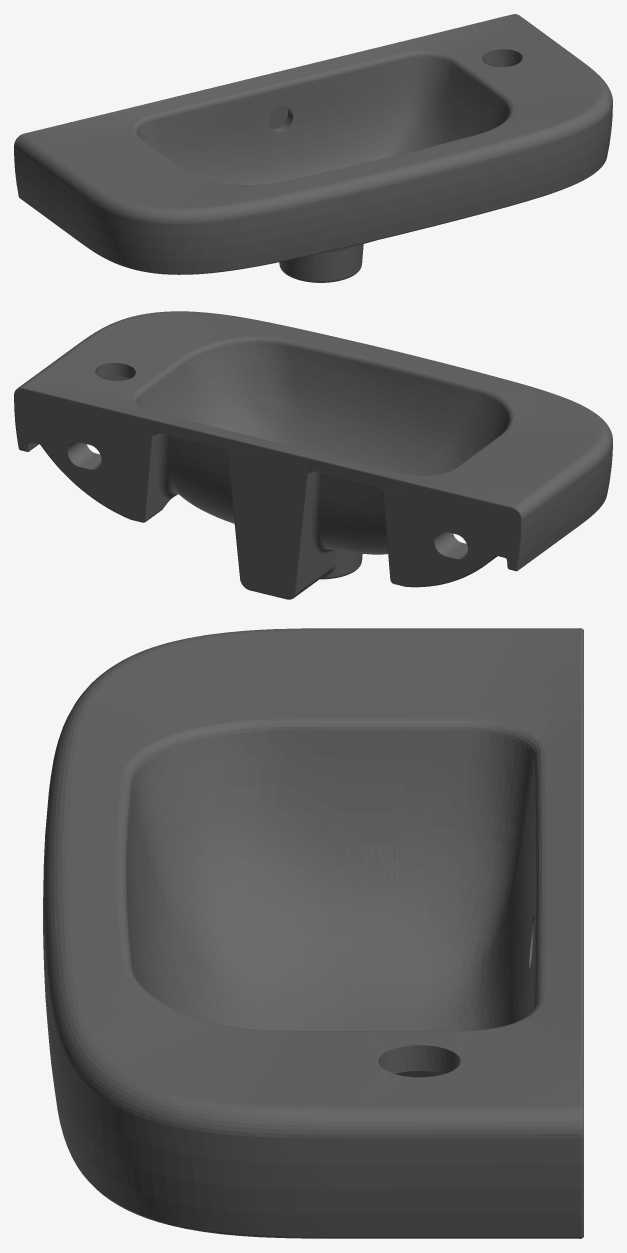
File: AEC_49671.glb
3 views of the same model, one above another, from view 1: azimuth 30°, elevation 25°; view 2: azimuth 150°, elevation 25°; view 3: azimuth 270°, elevation 25° (orthographic). The views are drawn at different scales.
Visible parts, largest first — view 1: 0; view 2: 0; view 3: 0.
Part boxes in pixels (left/top/right/bottom): 0: left=14, top=14, right=612, bottom=282; 0: left=14, top=311, right=612, bottom=599; 0: left=43, top=628, right=583, bottom=1238.
Bounding box in the file's own units: 0.5 × 0.145 × 0.2302.
Materials: 1 (1 with a texture image).
